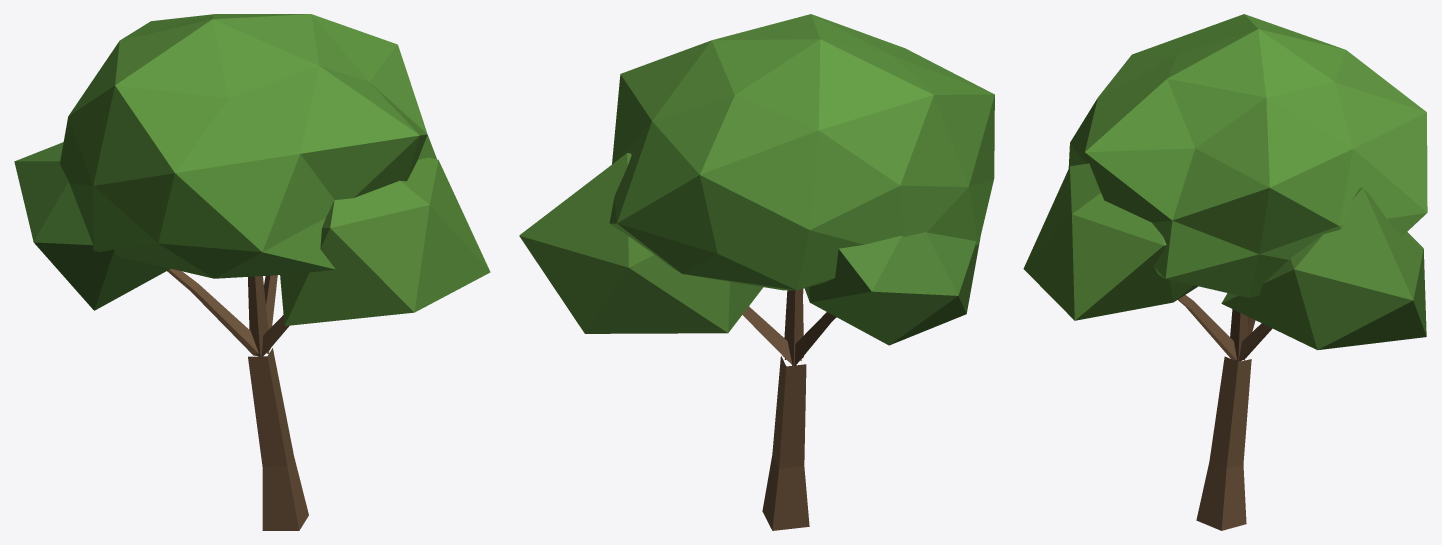
The model's file is broadleaf_b_lod1.glb.
The picture shows the model from 3 angles, left to right: view 1: azimuth 30°, elevation 25°; view 2: azimuth 150°, elevation 25°; view 3: azimuth 270°, elevation 25°; orthographic projection. The views are drawn at different scales.
Parts seen in each view (by area): view 1: broadleaf; view 2: broadleaf; view 3: broadleaf.
Part boxes in pixels (x1,y1,x2,y2): broadleaf: (14, 14, 490, 530); broadleaf: (519, 14, 994, 530); broadleaf: (1023, 14, 1427, 530).
Bounding box in the file's own units: 7.98 × 10.32 × 8.03.
